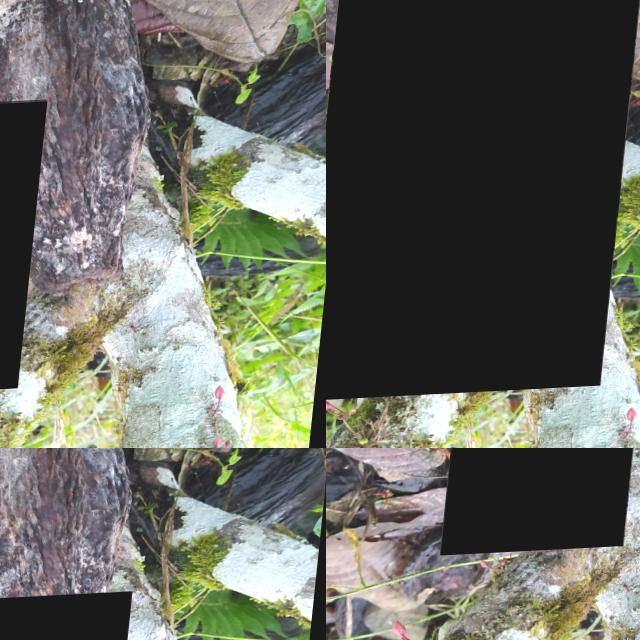Fitoftora: (326, 0, 640, 403), (448, 448, 640, 557)
Sana: (0, 103, 52, 398)
